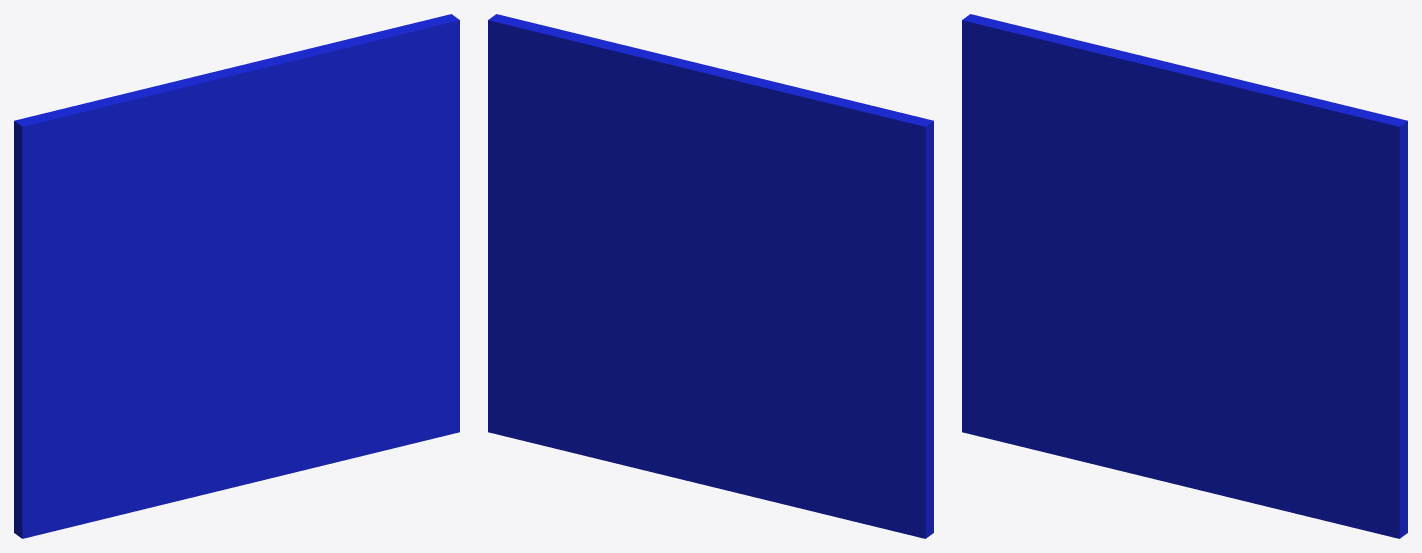
Rendered from events-UI.glb.
3 views of the same model, side by side, from view 1: azimuth 30°, elevation 25°; view 2: azimuth 150°, elevation 25°; view 3: azimuth 330°, elevation 25° (orthographic).
Parts seen in each view (by area): view 1: Window1Cube1; view 2: Window1Cube1; view 3: Window1Cube1.
Part boxes in pixels (left/top/right/bottom): Window1Cube1: left=14, top=14, right=459, bottom=538; Window1Cube1: left=488, top=14, right=933, bottom=538; Window1Cube1: left=962, top=14, right=1407, bottom=538.
Size of the model in its own units: 6 by 5.4 by 0.2.
